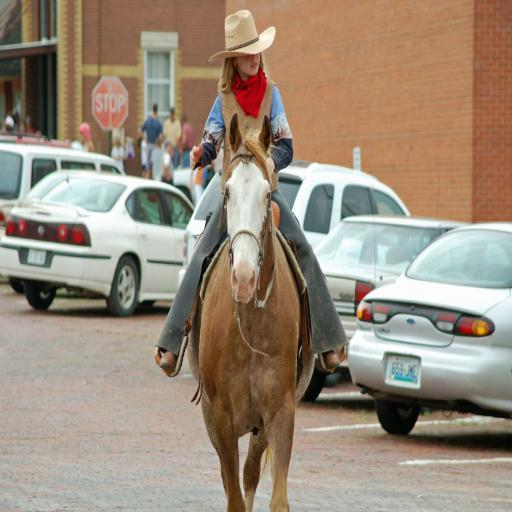horse: (188, 112, 318, 512)
